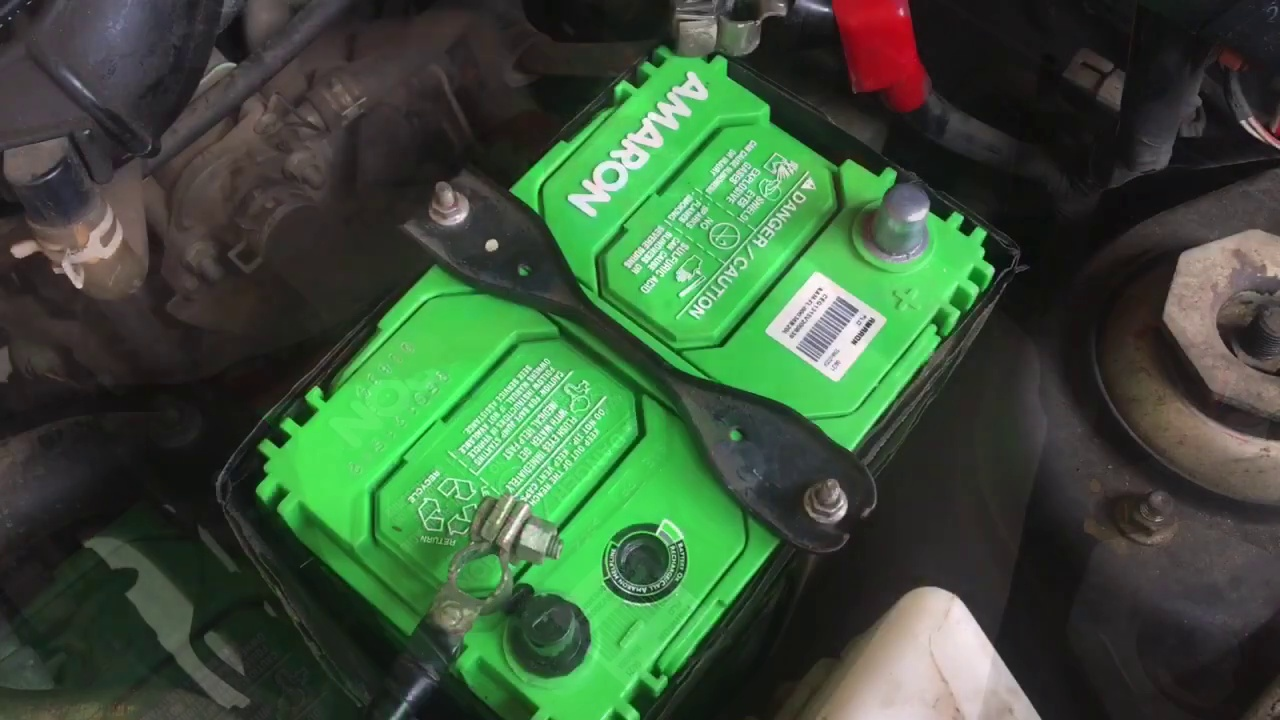battery: (277, 45, 989, 713)
pos_disconnected: (804, 8, 969, 274)
